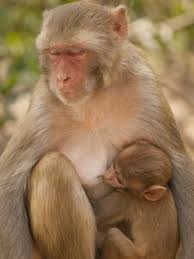monkey: (11, 2, 158, 211), (102, 146, 171, 250)
